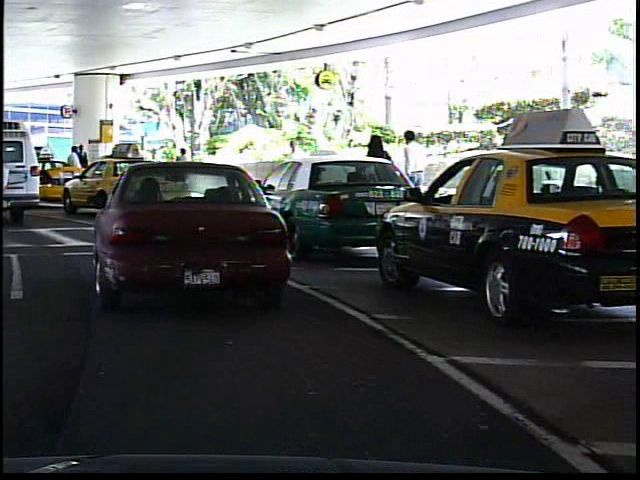person: (397, 124, 433, 227), (358, 130, 394, 228), (278, 133, 306, 205), (169, 141, 194, 192), (64, 145, 82, 198), (75, 142, 91, 194)
